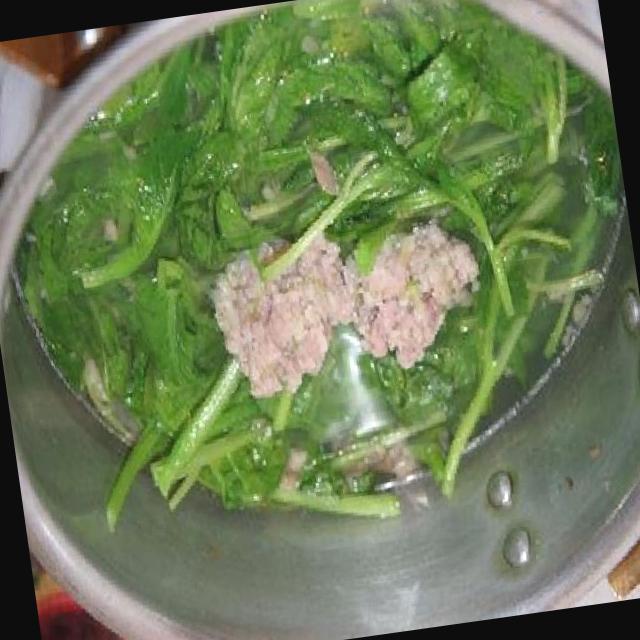canh cai: (15, 0, 622, 528)
